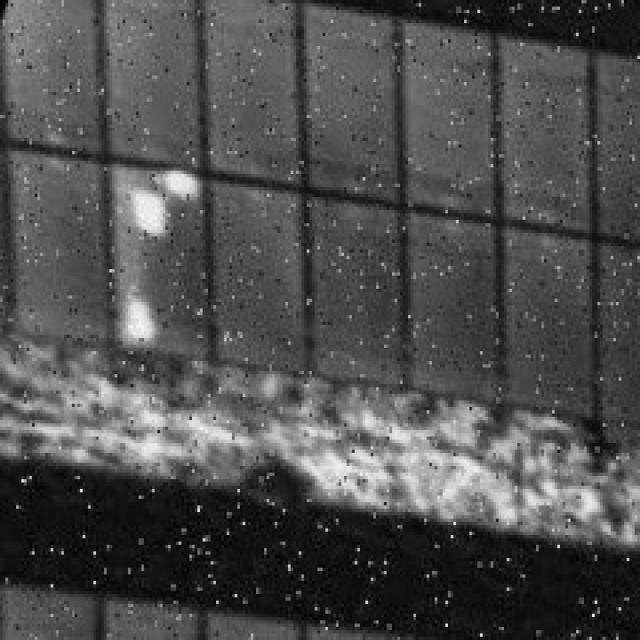Hotspot: (6, 0, 640, 431)
